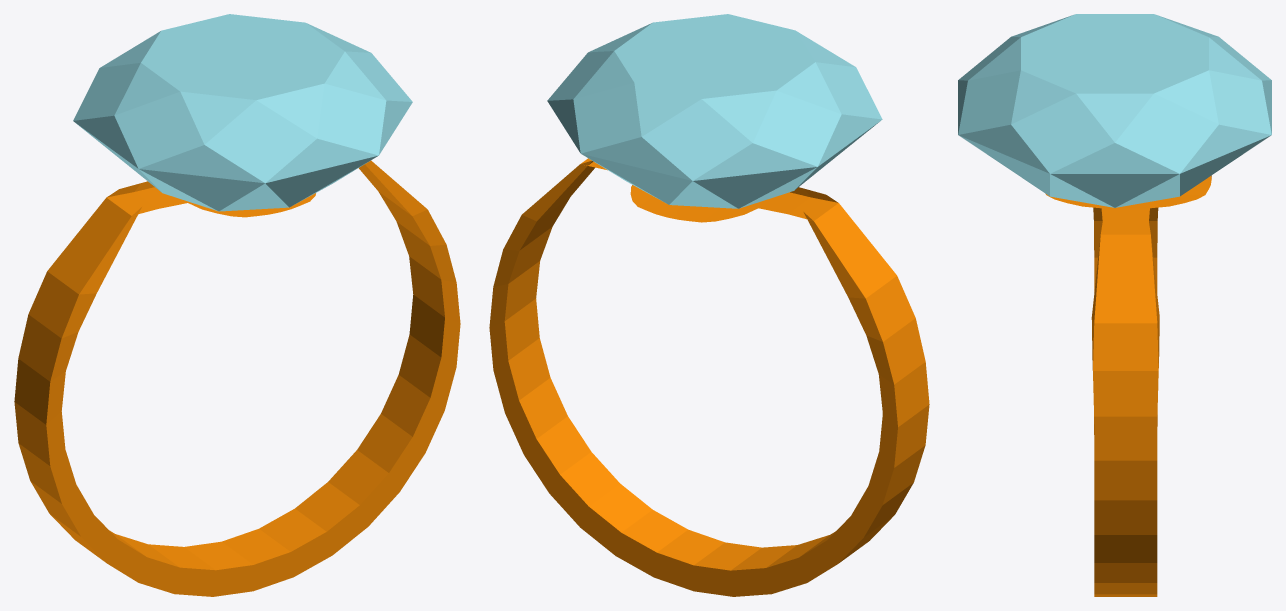
Rendered from 47e82986-58cb-4603-9ade-9335a0be7afa.glb.
3 renders of one model, left to right at view 1: azimuth 30°, elevation 25°; view 2: azimuth 150°, elevation 25°; view 3: azimuth 270°, elevation 25°, orthographic.
Visible parts, largest first — view 1: Circle, Gem; view 2: Circle, Gem; view 3: Gem, Circle.
Boxes of the visible parts, left/top/right/bottom form: Circle: left=14, top=160, right=460, bottom=596; Gem: left=73, top=14, right=412, bottom=211; Circle: left=489, top=158, right=929, bottom=596; Gem: left=547, top=14, right=882, bottom=208; Gem: left=958, top=14, right=1271, bottom=207; Circle: left=1045, top=175, right=1211, bottom=596.
Bounding box in the file's own units: 1.49 × 1.81 × 0.9871.
